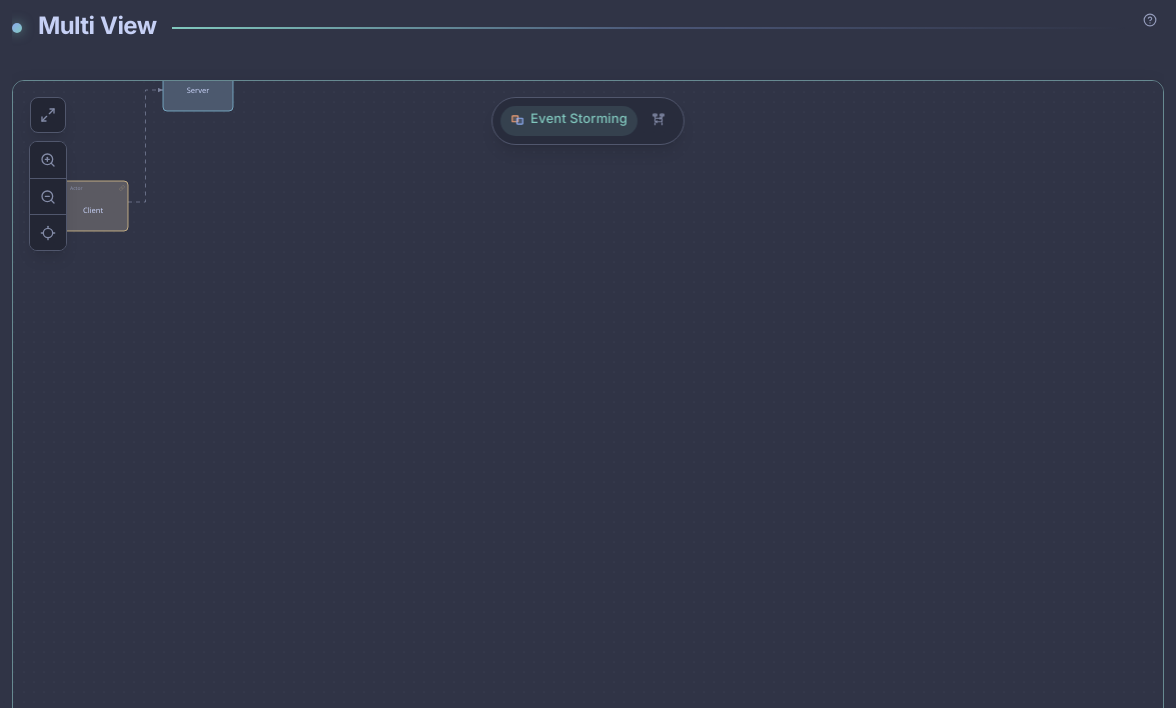
Test: Flowchart SEQUENCE view › switches to SEQUENCE view from tab
Click the tab named "Sequence Diagram". click: (658, 120)
box: [642,106,676,134]
(page scrolled)
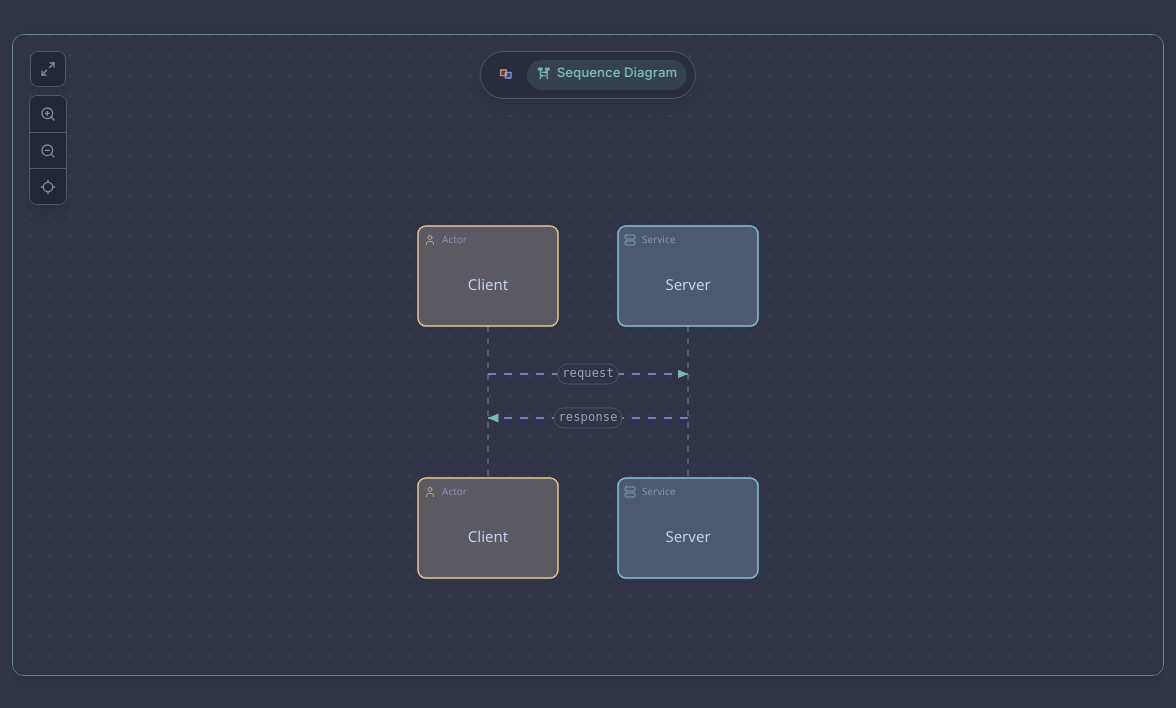
Expected: the icon with test id "flowchart-svg-SEQUENCE" is shown
